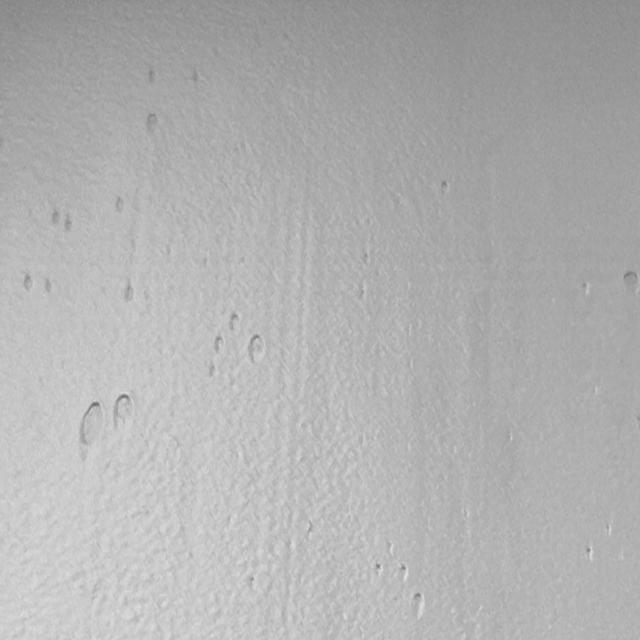pin holes: (77, 399, 111, 453), (114, 392, 138, 428), (243, 333, 267, 366), (619, 269, 640, 299), (144, 114, 164, 139), (120, 280, 138, 306), (576, 280, 596, 302), (411, 590, 426, 618), (144, 67, 162, 90), (48, 210, 66, 232), (227, 311, 244, 334), (210, 333, 227, 356), (114, 194, 130, 217), (21, 272, 36, 294), (355, 282, 370, 304), (438, 180, 454, 200), (583, 544, 597, 564), (208, 362, 222, 380), (44, 280, 58, 298), (361, 251, 373, 271), (62, 218, 75, 236), (399, 564, 410, 585), (245, 575, 258, 592), (602, 521, 615, 537), (306, 521, 316, 539), (385, 541, 395, 557), (374, 562, 384, 576)
